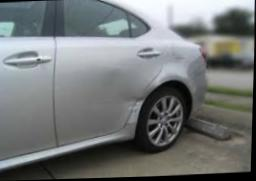Fender: (113, 76, 159, 139)
